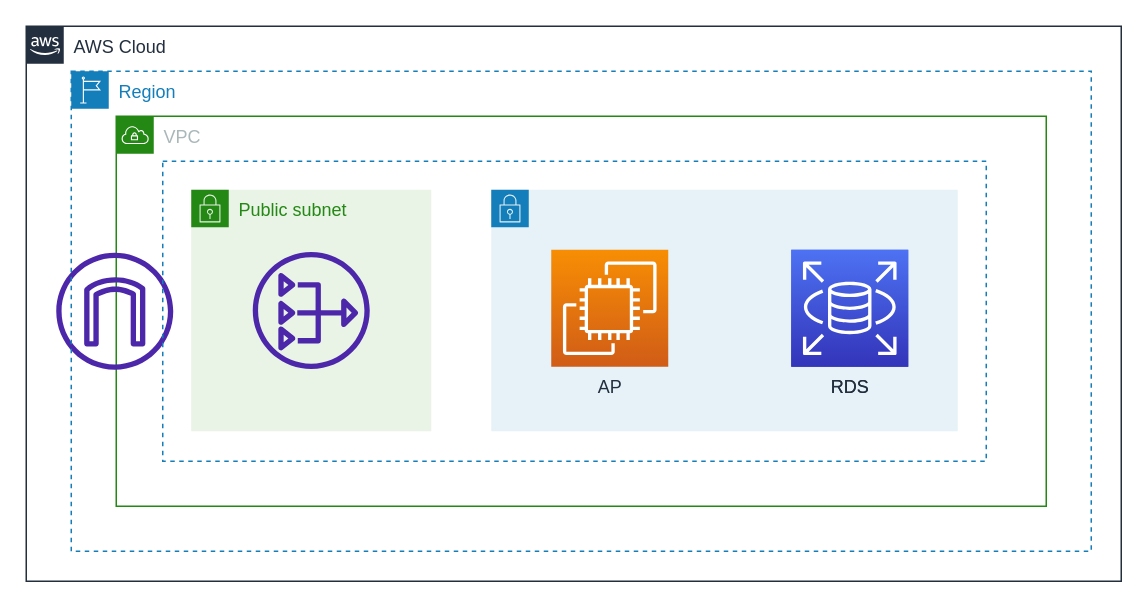
This 1148x608 diagram has some shape labels left out. The box of each missing label's shape, as (x1, y1, x2, y2) in pixels:
Availability Zone: (161, 160, 986, 461)
IGW: (56, 252, 172, 369)
Protected subnet: (490, 188, 958, 431)
